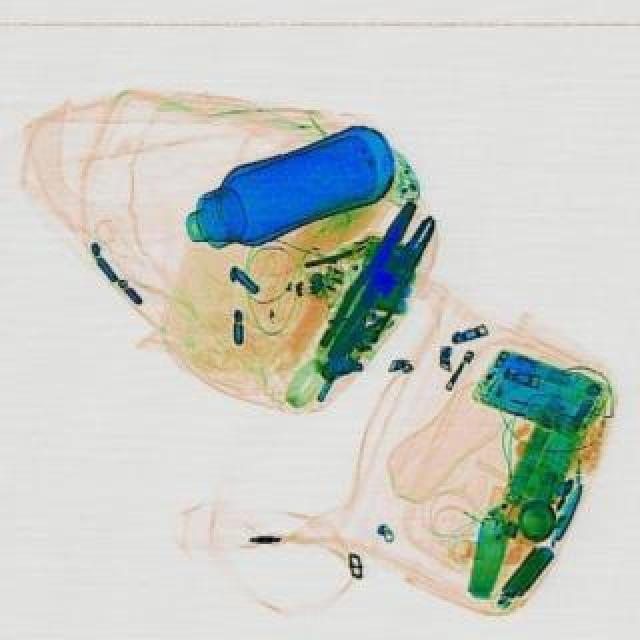wrench: (320, 208, 448, 372)
